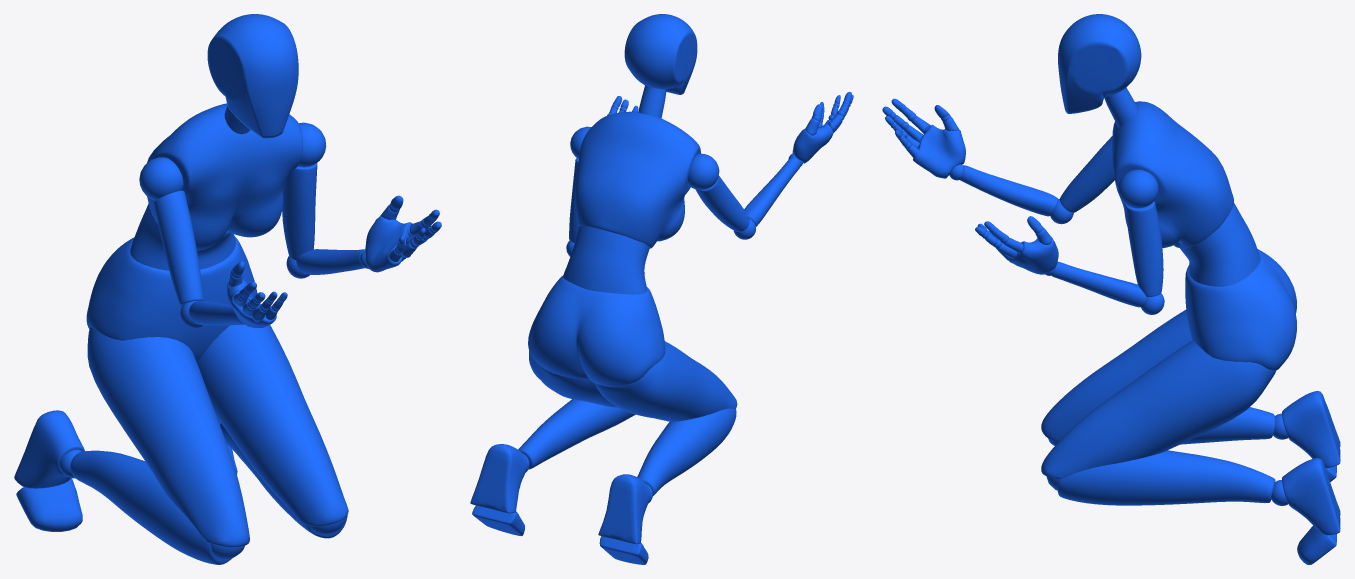
Rendered from Diosa_Lamento.fbx.
3 views of the same model, side by side, from view 1: azimuth 30°, elevation 25°; view 2: azimuth 150°, elevation 25°; view 3: azimuth 270°, elevation 25° (orthographic). The views are drawn at different scales.
Parts seen in each view (by area): view 1: Adjustable Mannequin Mesh; view 2: Adjustable Mannequin Mesh; view 3: Adjustable Mannequin Mesh.
Boxes of the visible parts, x1,y1,x2,y2 form: Adjustable Mannequin Mesh: (14, 14, 441, 564); Adjustable Mannequin Mesh: (470, 14, 853, 564); Adjustable Mannequin Mesh: (882, 14, 1340, 564).
Size of the model in its own units: 42.83 by 96.95 by 78.87.
